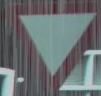Give way: (3, 4, 95, 81)
